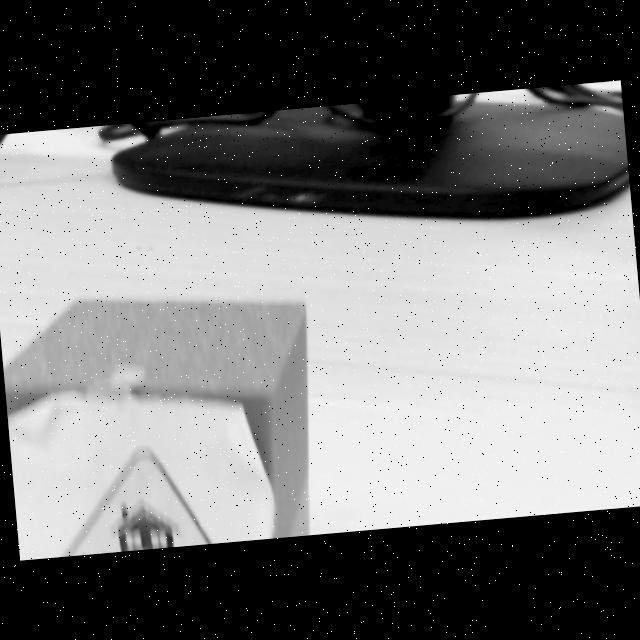Tsunami: (62, 447, 212, 557)
